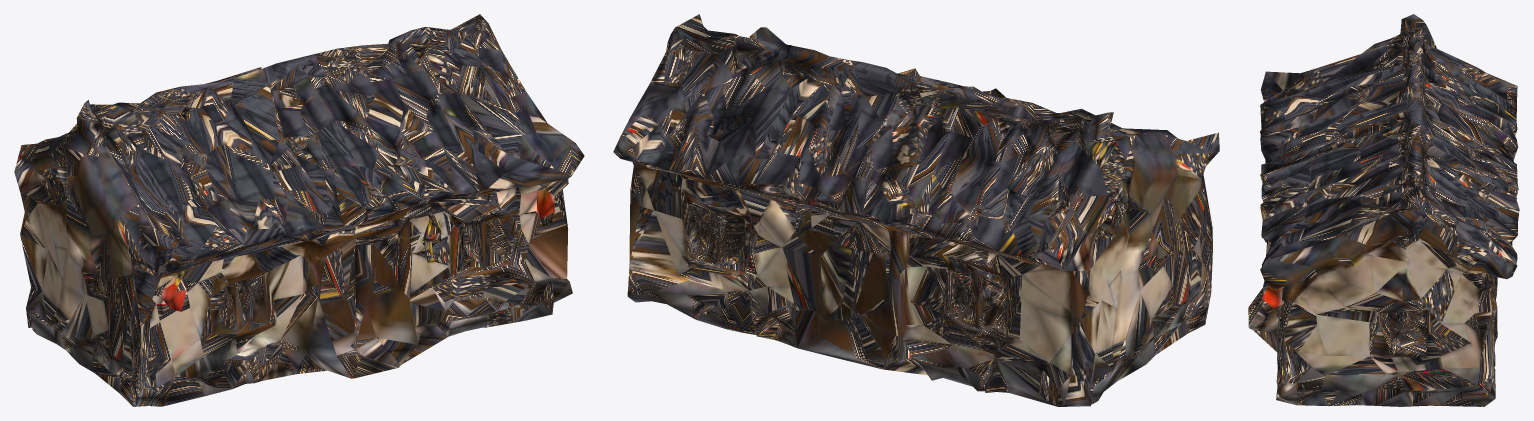
Rendered from bq_farmhouse.lod2.glb.
3 renders of one model, left to right at view 1: azimuth 30°, elevation 25°; view 2: azimuth 150°, elevation 25°; view 3: azimuth 270°, elevation 25°, orthographic. The views are drawn at different scales.
Size of the model in its own units: 1.88 by 1.02 by 1.15.
1 material, 1 textured.
